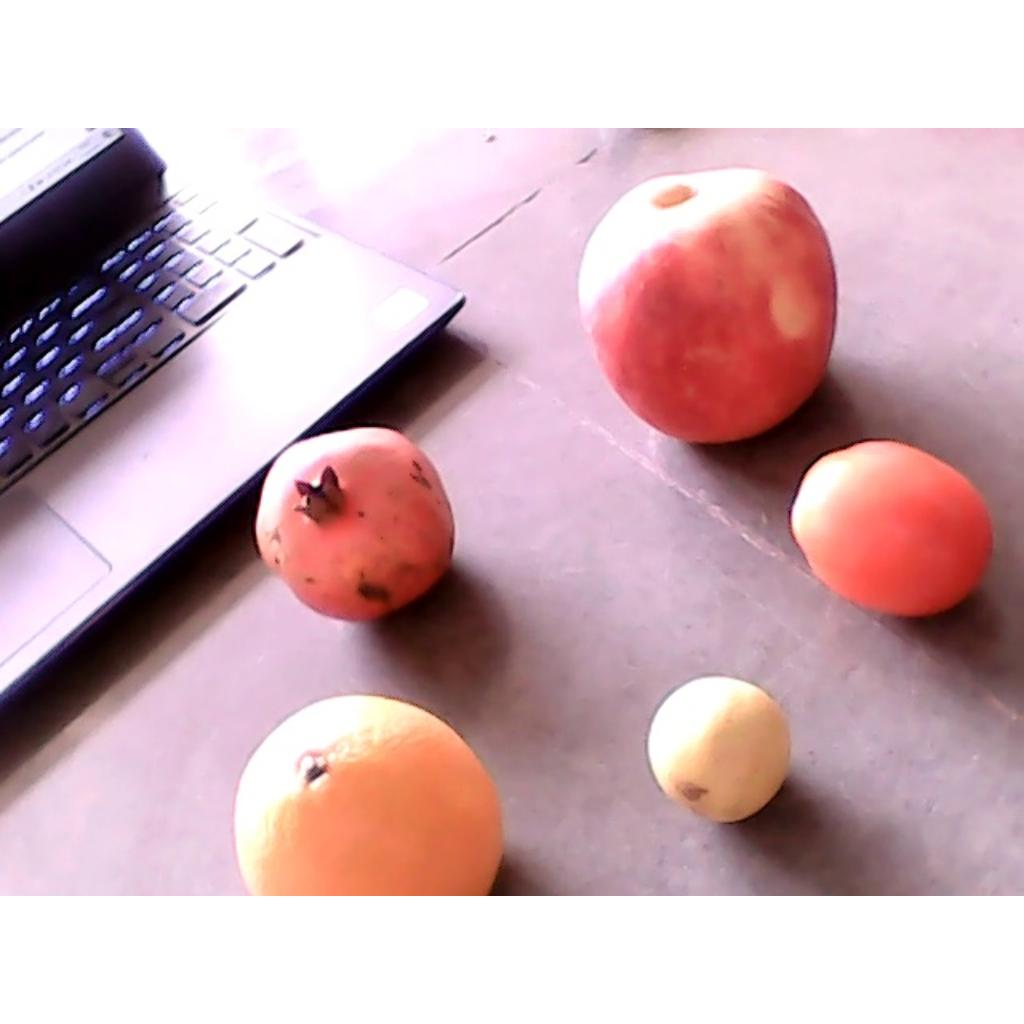apple: (577, 166, 838, 448)
lemon: (649, 675, 791, 823)
orange: (235, 695, 504, 894)
pomegranate: (256, 427, 457, 625)
tomato: (790, 438, 995, 617)
